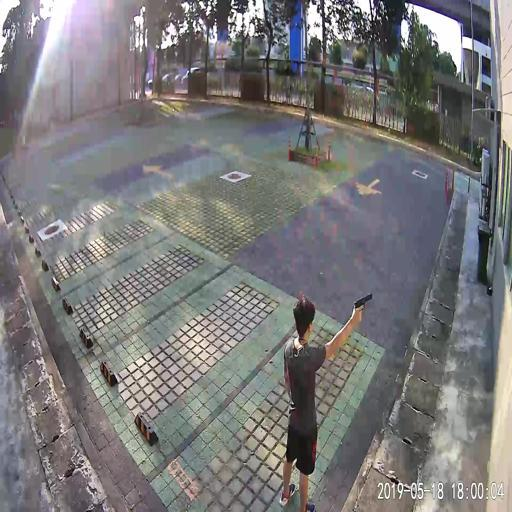Handgun: (352, 291, 371, 322)
